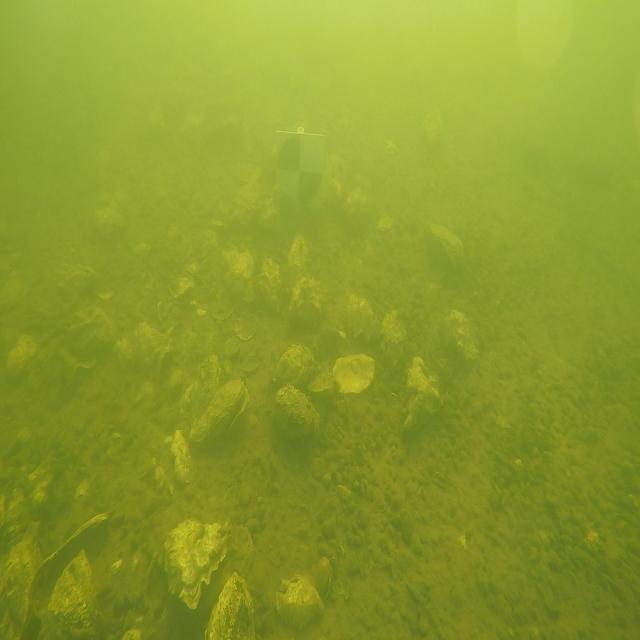Oyster- Indeterminate: (229, 181, 270, 214), (0, 273, 26, 313), (90, 209, 128, 232)
Oyster-Closed: (164, 520, 254, 609), (43, 552, 99, 640), (205, 573, 255, 640), (404, 354, 443, 429), (274, 384, 320, 440), (276, 576, 324, 629), (64, 307, 116, 355), (132, 326, 175, 375), (338, 294, 381, 341), (274, 344, 318, 387), (289, 278, 325, 329), (451, 302, 480, 363), (224, 247, 254, 302), (430, 224, 464, 262), (259, 258, 282, 311), (6, 336, 38, 373), (379, 308, 404, 348), (288, 236, 309, 269), (343, 189, 370, 214)
Oyster-Open: (31, 511, 108, 603), (180, 353, 249, 447), (0, 548, 31, 637), (309, 353, 375, 393)
